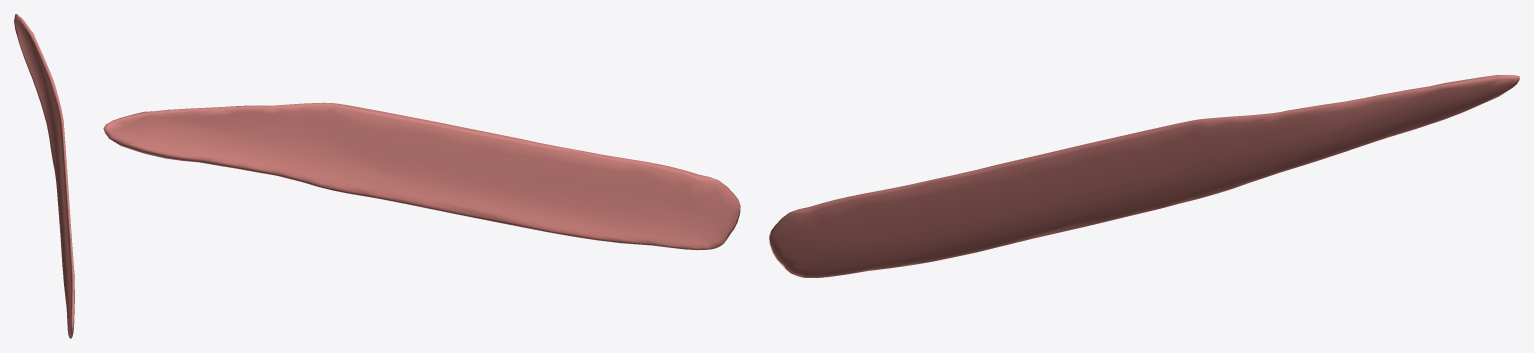
3 renders of one model, left to right at view 1: azimuth 30°, elevation 25°; view 2: azimuth 150°, elevation 25°; view 3: azimuth 270°, elevation 25°, orthographic. The views are drawn at different scales.
Visible parts, largest first — view 1: ZA_59d0e632d7639bef; view 2: ZA_59d0e632d7639bef; view 3: ZA_59d0e632d7639bef.
Boxes of the visible parts, <box> form: ZA_59d0e632d7639bef: <box>14,14,74,338</box>; ZA_59d0e632d7639bef: <box>103,102,740,250</box>; ZA_59d0e632d7639bef: <box>769,75,1519,277</box>.
Bounding box in the file's own units: 0.0196 × 0.023 × 0.0482.
